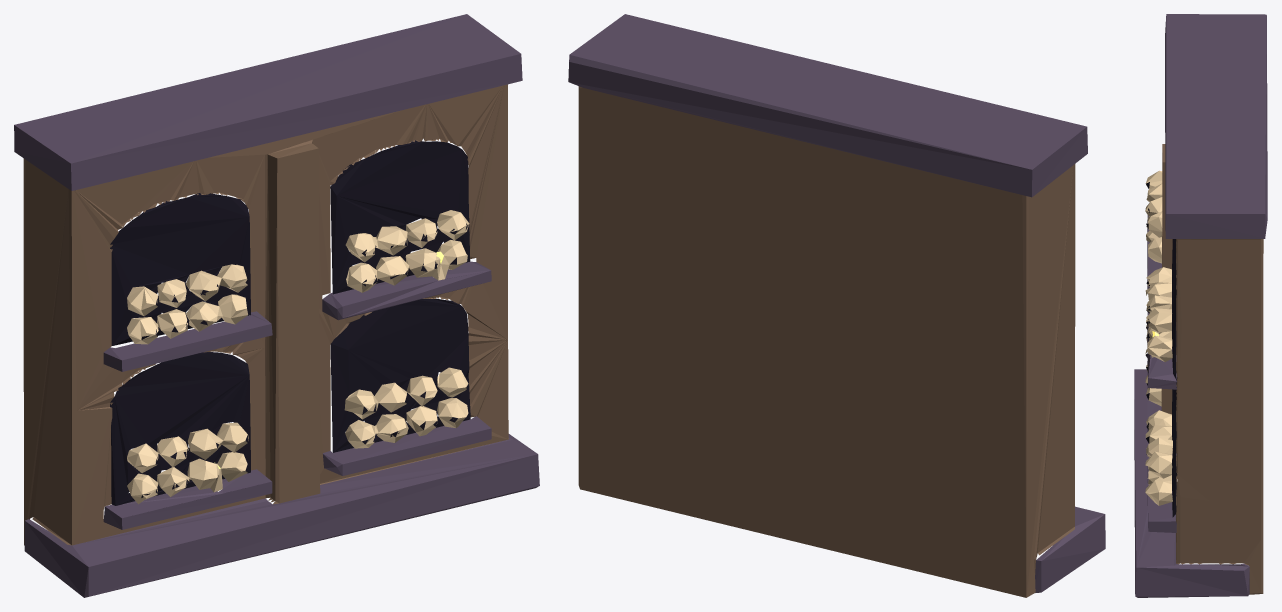
Rendered from ossuary_wall.glb.
3 views of the same model, side by side, from view 1: azimuth 30°, elevation 25°; view 2: azimuth 150°, elevation 25°; view 3: azimuth 270°, elevation 25° (orthographic). The views are drawn at different scales.
Parts seen in each view (by area): view 1: ossuary_wall; view 2: ossuary_wall; view 3: ossuary_wall.
Boxes of the visible parts, <box> form: ossuary_wall: <box>14,14,539,597</box>; ossuary_wall: <box>568,14,1105,597</box>; ossuary_wall: <box>1134,14,1267,597</box>.
Size of the model in its own units: 3.32 by 2.95 by 0.9292.
